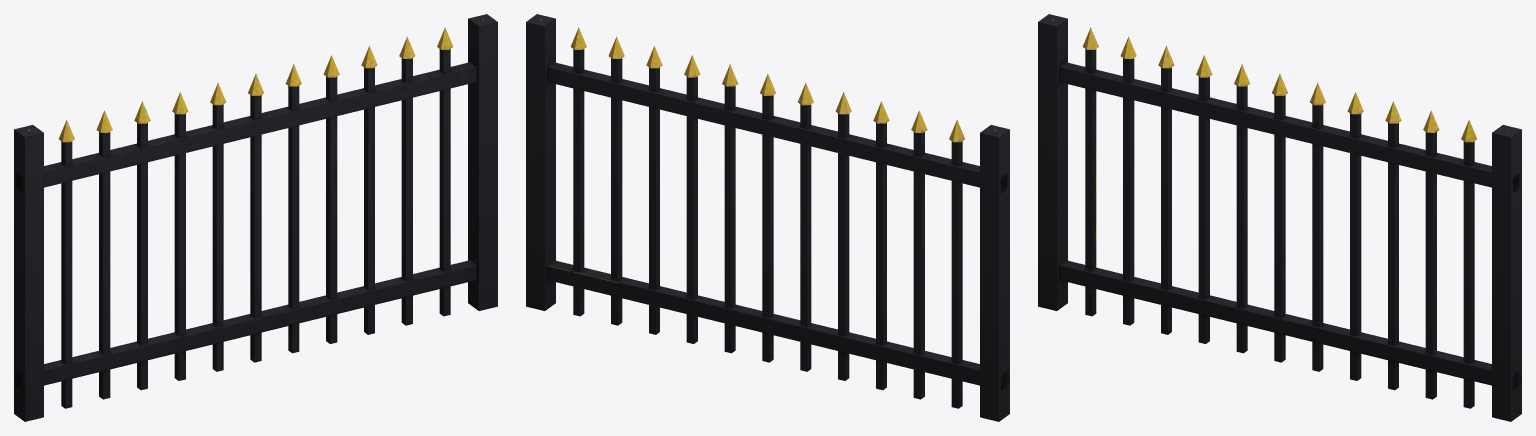
The model's file is verja.glb.
The picture shows the model from 3 angles, left to right: view 1: azimuth 30°, elevation 25°; view 2: azimuth 150°, elevation 25°; view 3: azimuth 330°, elevation 25°; orthographic projection.
Parts seen in each view (by area): view 1: verja; view 2: verja; view 3: verja.
Part boxes in pixels (left/top/right/bottom): verja: left=14, top=14, right=497, bottom=421; verja: left=526, top=14, right=1009, bottom=421; verja: left=1038, top=14, right=1521, bottom=421.
Size of the model in its own units: 2 by 1.16 by 0.08.
1 material, 1 textured.
